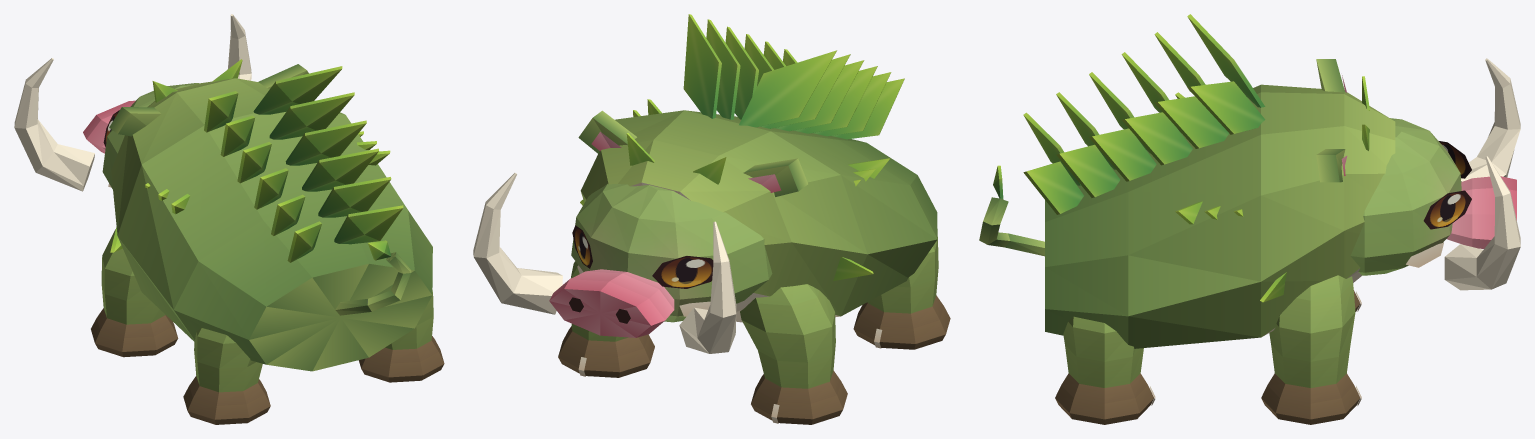
File: BrambleBoar_S9_FacetedReview.obj
3 renders of one model, left to right at view 1: azimuth 30°, elevation 25°; view 2: azimuth 150°, elevation 25°; view 3: azimuth 270°, elevation 25°, orthographic. The views are drawn at different scales.
Parts seen in each view (by area): view 1: Body, LeftBackLeg, LeftFrontLeg, LeftTusk, RightBackLeg, RightBrambleRidge0, RightBrambleRidge1, RightBrambleRidge2, RightBrambleRidge3, RightBrambleRidge4, RightBrambleRidge5, Tail (+11 smaller); view 2: Body, Head, LeftFrontLeg, Snout, LeftBackLeg, RightTusk, LeftBrambleRidge0, RightFrontLeg, LeftTusk, RightBrambleRidge0, RightBrambleRidge1, LeftEye (+12 smaller); view 3: Body, RightFrontLeg, Head, RightBackLeg, RightTusk, LeftTusk, Snout, RightBrambleRidge0, RightBrambleRidge1, RightBrambleRidge2, RightBrambleRidge3, RightBrambleRidge4 (+11 smaller).
Part boxes in pixels (x1,y1,x2,y2): Body: (111, 78, 432, 371); LeftBackLeg: (183, 328, 270, 424); LeftFrontLeg: (91, 229, 178, 357); LeftTusk: (14, 58, 94, 191); RightBackLeg: (359, 290, 444, 382); RightBrambleRidge0: (253, 66, 342, 114); RightBrambleRidge1: (269, 92, 354, 139); RightBrambleRidge2: (285, 120, 366, 165); RightBrambleRidge3: (302, 148, 378, 191); RightBrambleRidge4: (318, 177, 391, 217); RightBrambleRidge5: (334, 205, 403, 244); Tail: (335, 252, 411, 315); Body: (580, 110, 937, 322); Head: (571, 183, 772, 322); LeftFrontLeg: (740, 284, 847, 424); Snout: (549, 269, 674, 337); LeftBackLeg: (853, 237, 950, 349); RightTusk: (473, 173, 562, 314); LeftBrambleRidge0: (739, 50, 836, 127); RightFrontLeg: (558, 261, 654, 377); LeftTusk: (679, 221, 736, 353); RightBrambleRidge0: (683, 14, 721, 118); RightBrambleRidge1: (706, 19, 740, 119); LeftEye: (652, 256, 713, 288); Body: (1045, 84, 1395, 348); RightFrontLeg: (1261, 275, 1360, 424); Head: (1350, 118, 1461, 275); RightBackLeg: (1055, 316, 1153, 424); RightTusk: (1444, 156, 1520, 290); LeftTusk: (1461, 58, 1520, 181); Snout: (1447, 176, 1516, 248); RightBrambleRidge0: (1187, 81, 1265, 134); RightBrambleRidge1: (1154, 96, 1229, 148); RightBrambleRidge2: (1122, 112, 1192, 165); RightBrambleRidge3: (1089, 128, 1156, 181); RightBrambleRidge4: (1056, 144, 1120, 197).
Size of the model in its own units: 15.06 by 15 by 23.93.
1 material, 1 textured.
